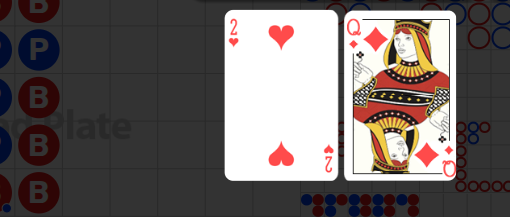2H: (228, 18, 241, 49)
QD: (400, 134, 444, 181), (333, 14, 377, 60)
